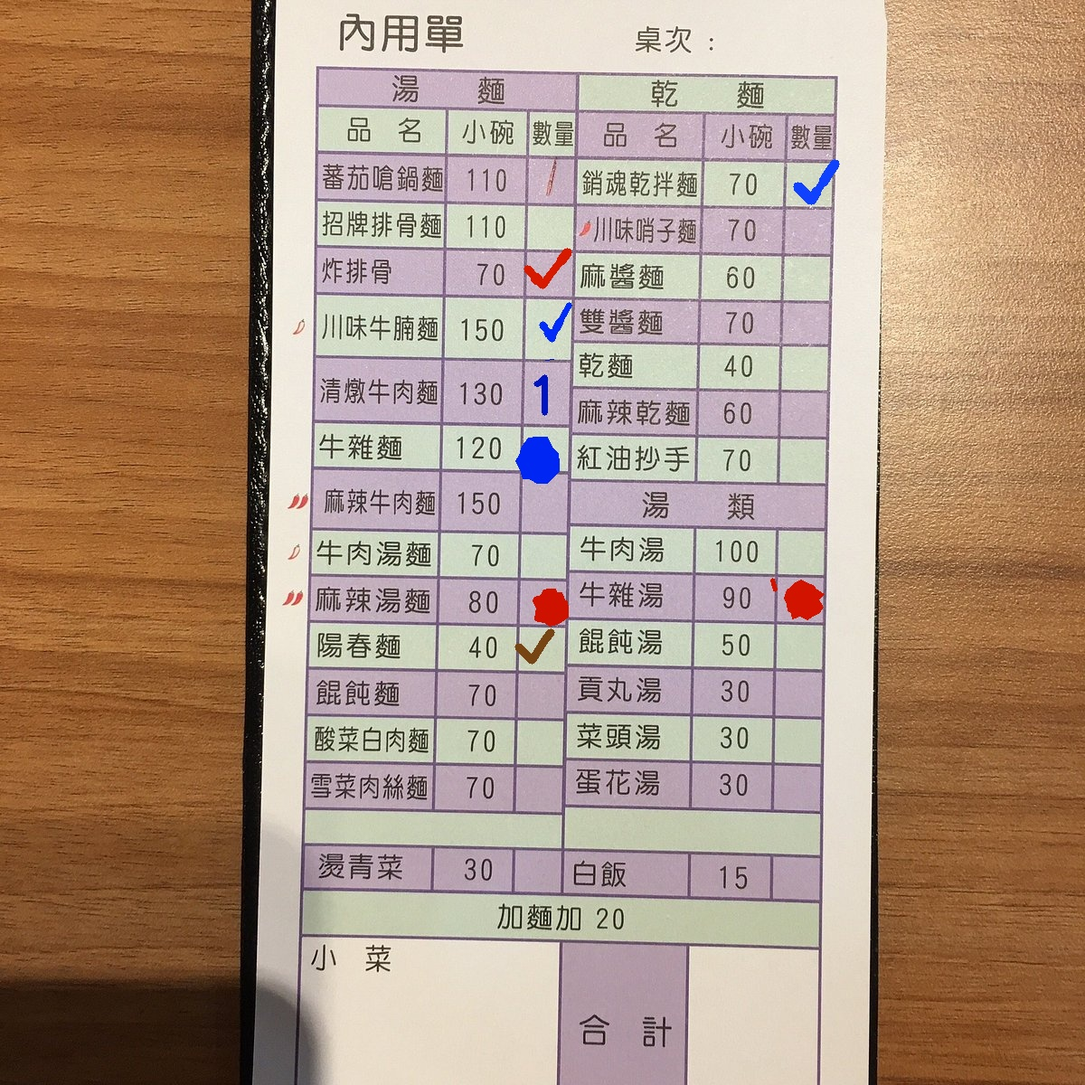marked_circle: (520, 426, 568, 472), (775, 575, 823, 621), (517, 580, 565, 626)
marked_number_1: (521, 360, 567, 422)
marked_tick: (524, 297, 570, 359), (786, 159, 834, 205), (517, 623, 565, 669), (525, 251, 573, 297)
